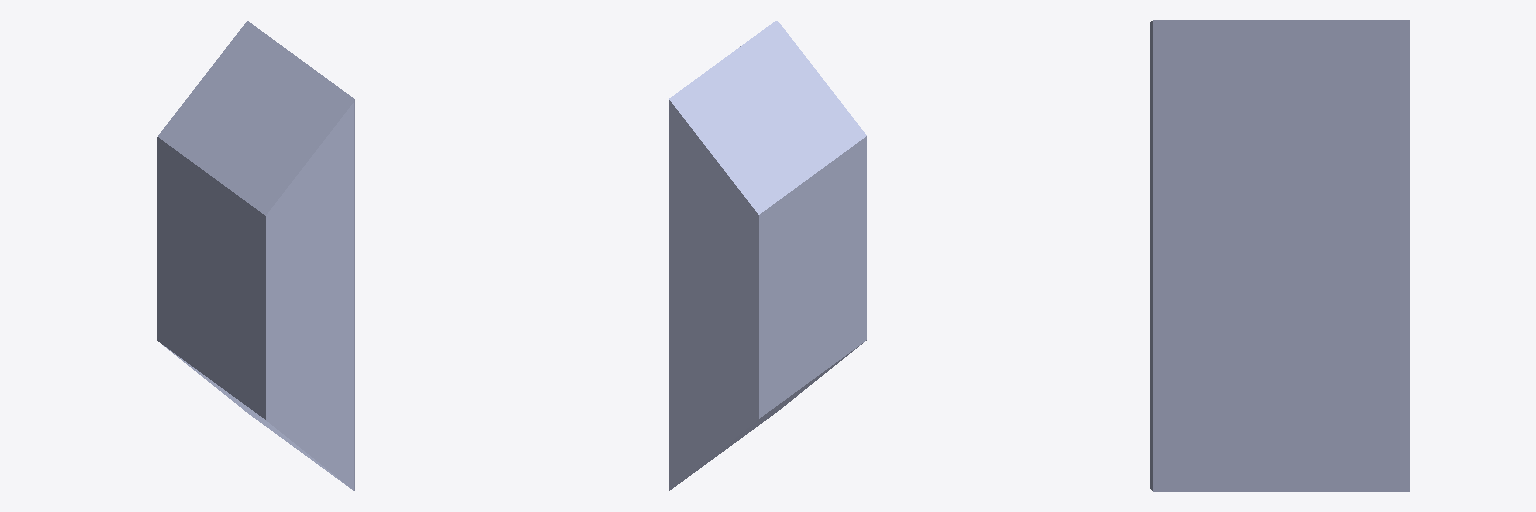
robot.urdf — hole.SLDPRT:
<?xml version="1.0" encoding="utf-8"?>
<!-- This URDF was automatically created by SolidWorks to URDF Exporter! Originally created by [author] ([email redacted]) 
     Commit Version: 1.5.1-0-g916b5db  Build Version: 1.5.7152.31018
     For more information, please see http://wiki.ros.org/sw_urdf_exporter -->
<robot
  name="hole.SLDPRT">
  <link
    name="hole">
    <inertial>
      <origin
        xyz="0.0 -0.025 0.0"
        rpy="0 0 0" />
      <mass
        value="5.0" />
      <inertia
        ixx="0.003"
        ixy="0.0"
        ixz="0.0"
        iyy="0.003"
        iyz="0.0"
        izz="0.003" />
    </inertial>
    <visual>
      <origin
        xyz="0 0 0"
        rpy="1.5707963267949 0 0" />
      <geometry>
        <mesh
          filename="../hole_stl/Hole_32.STL" />
      </geometry>
      <material
        name="stainless">
        <color
          rgba="0.79216 0.81961 0.93333 1" />
      </material>
    </visual>
    <collision>
      <origin
        xyz="0 0 0"
        rpy="1.5707963267949 0 0" />
      <geometry>
        <mesh
          filename="../hole_stl/Hole_32.STL" />
      </geometry>
    </collision>
  <gazebo>
    <static>true</static>
  </gazebo>

  </link>
</robot>

--- Facts derived from the render (not from the file) ---
Views: 3 orthographic renders of the robot side by side, from view 1: azimuth 30°, elevation 25°; view 2: azimuth 150°, elevation 25°; view 3: azimuth 270°, elevation 25°.
Robot: hole.SLDPRT — 1 links, 0 joints (none); root link hole; default pose: all joints at 0.
Visible links, largest first — view 1: hole; view 2: hole; view 3: hole.
Link boxes in pixels (<box>): hole: <box>157,21,354,490</box>; hole: <box>669,21,866,490</box>; hole: <box>1150,20,1409,491</box>.
Bounding box of the posed robot: 0.024 × 0.05 × 0.1 m (x, y, z).
1 mesh visuals loaded from 1 distinct referenced files (1 binary STL).